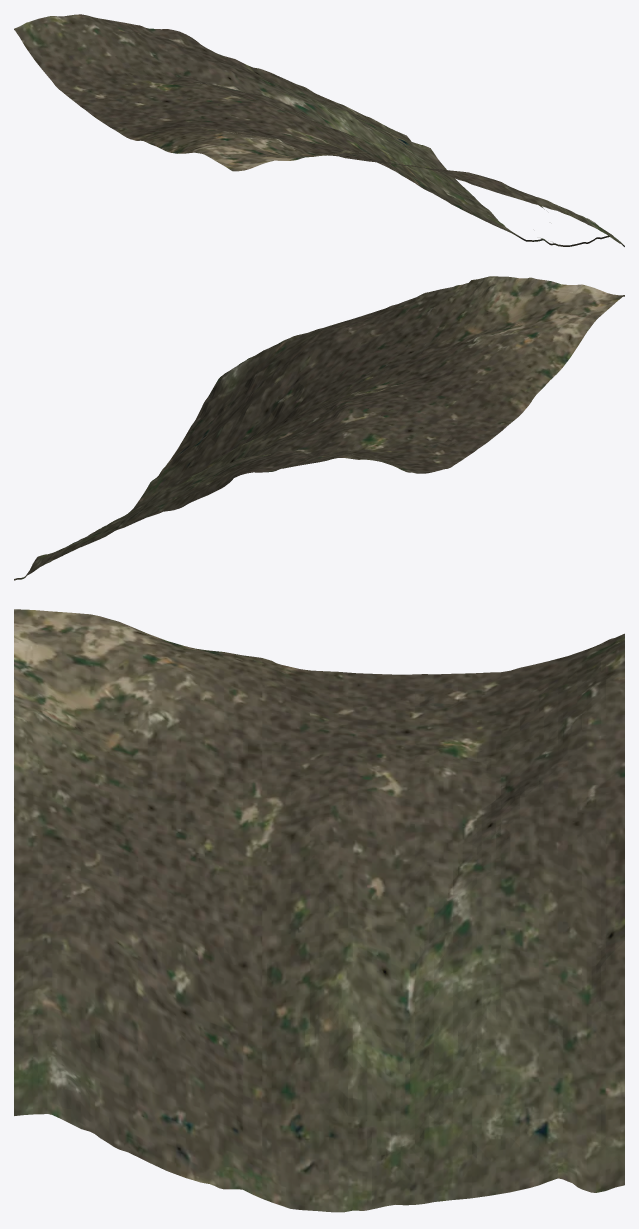
3 views of the same model, one above another, from view 1: azimuth 30°, elevation 25°; view 2: azimuth 150°, elevation 25°; view 3: azimuth 270°, elevation 25° (orthographic). The views are drawn at different scales.
Size of the model in its own units: 250 by 147 by 241.
Materials: 1 (1 with a texture image).
